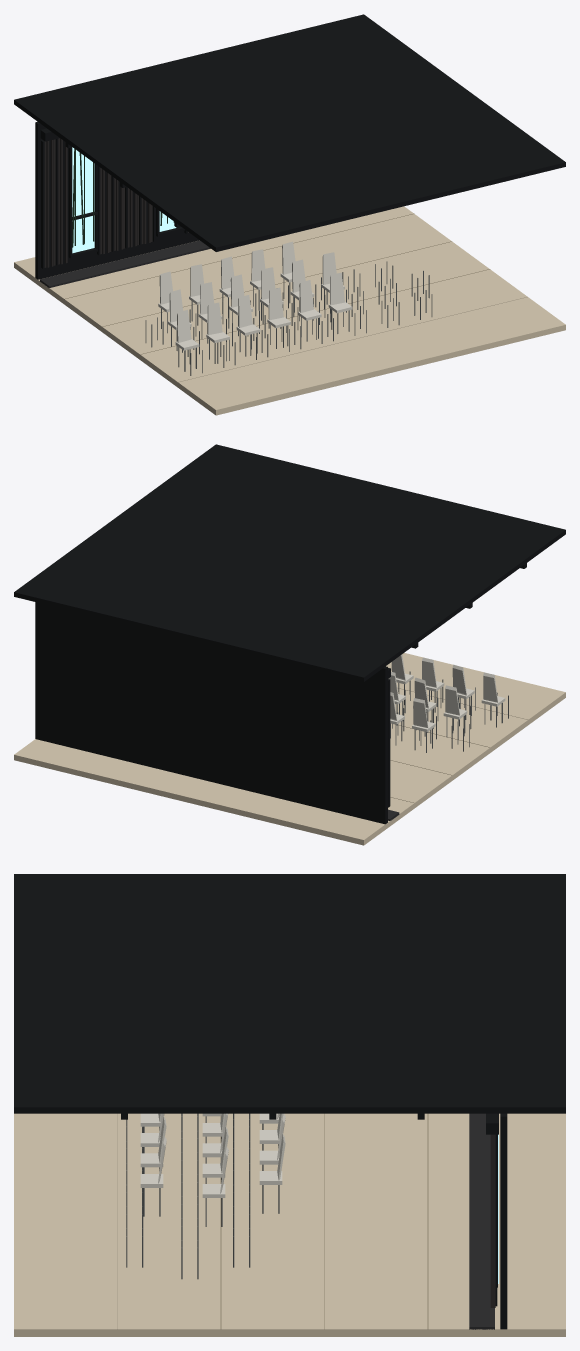
File: scene-2-viga.glb
3 views of the same model, one above another, from view 1: azimuth 30°, elevation 25°; view 2: azimuth 150°, elevation 25°; view 3: azimuth 270°, elevation 25° (orthographic). The views are drawn at different scales.
Parts seen in each view (by area): view 1: Ceiling, Pale floor, Back wall, Carpet strip, Window glass, Window frame, Velvet curtain fold, Velvet curtain fold.006, Velvet curtain fold.002; view 2: Ceiling, Back wall, Pale floor; view 3: Ceiling, Pale floor, Carpet strip, Back wall, Velvet curtain fold.096.
Part boxes in pixels (box(x1,y1,x2,y2)): Ceiling: box(14, 14, 565, 251); Pale floor: box(14, 206, 565, 415); Back wall: box(35, 121, 199, 279); Carpet strip: box(40, 240, 210, 287); Window glass: box(72, 147, 94, 253); Window frame: box(68, 147, 72, 258); Velvet curtain fold: box(41, 140, 44, 268); Velvet curtain fold.006: box(55, 138, 58, 265); Velvet curtain fold.002: box(46, 141, 49, 267); Ceiling: box(14, 444, 565, 681); Back wall: box(35, 602, 387, 824); Pale floor: box(14, 653, 565, 845); Ceiling: box(14, 874, 565, 1113); Pale floor: box(14, 1113, 565, 1336); Carpet strip: box(469, 1113, 494, 1329); Back wall: box(500, 1113, 507, 1329); Velvet curtain fold.096: box(490, 1134, 495, 1307).
Bounding box in the file's own units: 16 × 7.34 × 16.
